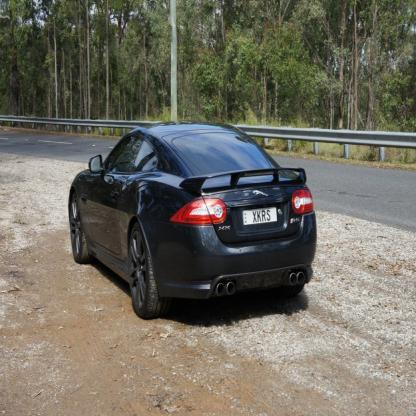Vehicle: (70, 127, 320, 322)
